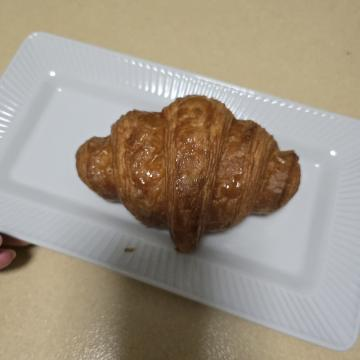croissant: (86, 46, 262, 300)
